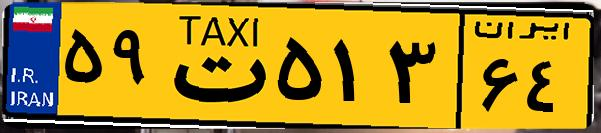1: (330, 28, 385, 110)
3: (385, 28, 445, 110)
4: (525, 38, 570, 115)
5: (270, 28, 330, 110), (57, 26, 110, 100)
6: (475, 38, 525, 113)
9: (110, 28, 158, 98)
ت: (158, 12, 270, 120)
